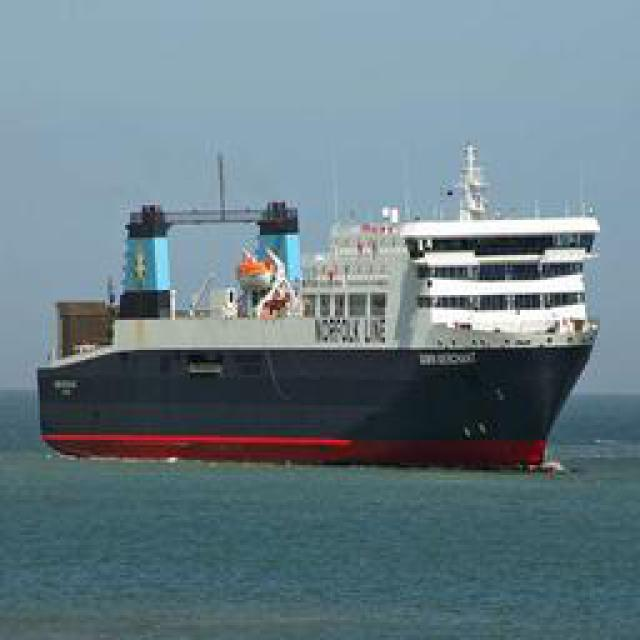Ship: (46, 183, 601, 481)
